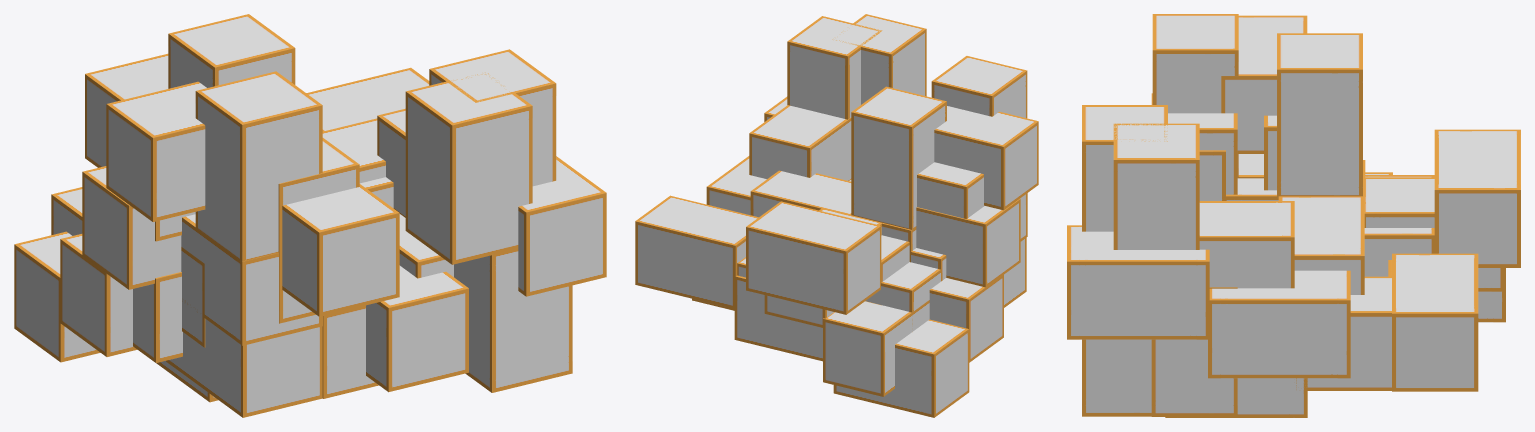
Rendered from khoi chu nhat.fbx.
The picture shows the model from 3 angles, left to right: view 1: azimuth 30°, elevation 25°; view 2: azimuth 150°, elevation 25°; view 3: azimuth 270°, elevation 25°; orthographic projection. The views are drawn at different scales.
Visible parts, largest first — view 1: chunhat4, chunhat3, chunhat2, chunhat6, chunhat5, chunhat1; view 2: chunhat4, chunhat1, chunhat5, chunhat2, chunhat3, chunhat6; view 3: chunhat1, chunhat5, chunhat2, chunhat6, chunhat4, chunhat3.
Part boxes in pixels (bbox=[...]): chunhat4: bbox=[14, 67, 468, 392]; chunhat3: bbox=[51, 72, 572, 392]; chunhat2: bbox=[181, 71, 453, 345]; chunhat6: bbox=[166, 49, 556, 417]; chunhat5: bbox=[156, 14, 399, 402]; chunhat1: bbox=[85, 53, 606, 362]; chunhat4: bbox=[635, 106, 1038, 417]; chunhat1: bbox=[706, 96, 984, 314]; chunhat5: bbox=[750, 86, 946, 327]; chunhat2: bbox=[692, 56, 1027, 324]; chunhat3: bbox=[823, 14, 946, 396]; chunhat6: bbox=[787, 16, 1026, 307]; chunhat1: bbox=[1067, 115, 1520, 378]; chunhat5: bbox=[1199, 33, 1504, 294]; chunhat2: bbox=[1152, 14, 1391, 390]; chunhat6: bbox=[1113, 93, 1237, 416]; chunhat4: bbox=[1221, 15, 1478, 391]; chunhat3: bbox=[1082, 105, 1505, 417].
Bounding box in the file's own units: 114 × 88.02 × 122.
1 material, 1 textured.
